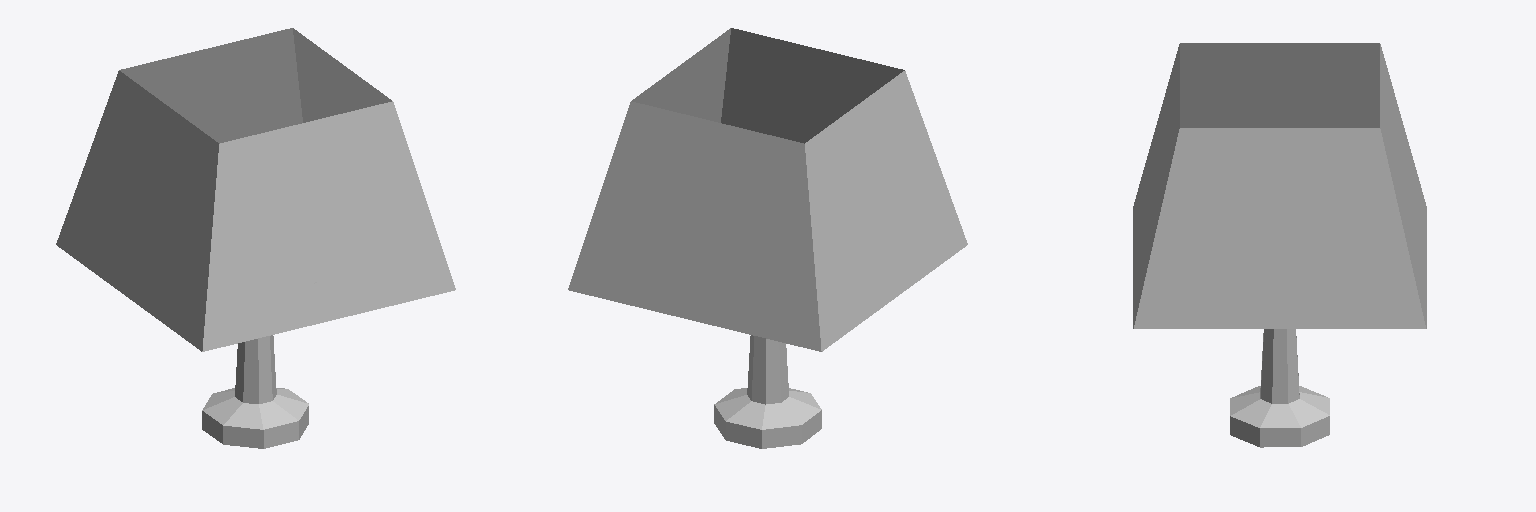
File: lamp.obj
3 renders of one model, left to right at view 1: azimuth 30°, elevation 25°; view 2: azimuth 150°, elevation 25°; view 3: azimuth 270°, elevation 25°, orthographic.
Visible parts, largest first — view 1: Cube.006, Sphere; view 2: Cube.006, Sphere; view 3: Cube.006, Sphere.
Boxes of the visible parts, box(x1,y1,x2,y2) form: Cube.006: box(56, 28, 455, 351); Sphere: box(202, 282, 316, 448); Cube.006: box(568, 28, 967, 351); Sphere: box(714, 335, 821, 448); Cube.006: box(1133, 43, 1426, 328); Sphere: box(1230, 329, 1329, 447).
Size of the model in its own units: 0.5109 by 0.6554 by 0.5109.